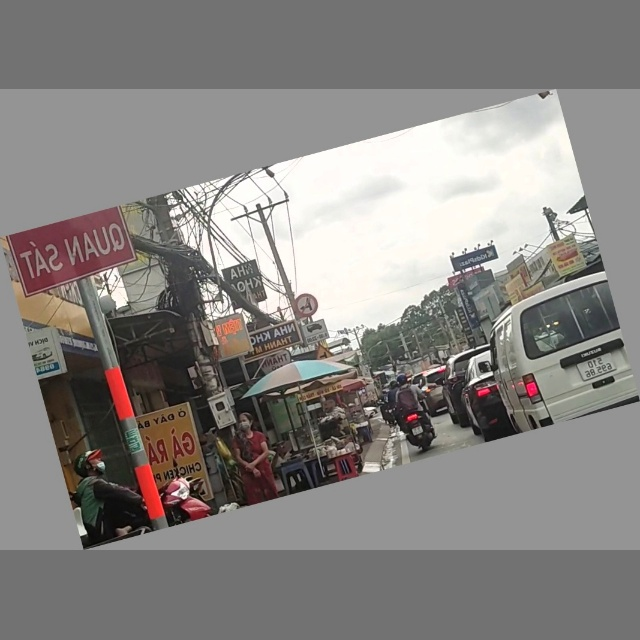P.139: (291, 291, 322, 322)
S.505a*Xe tai: (298, 318, 330, 346)
W.205b: (308, 343, 339, 366)
